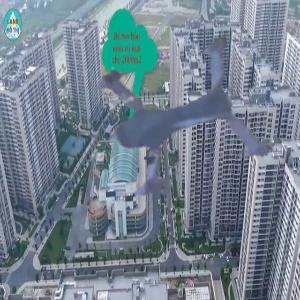drone: (52, 17, 271, 236)
